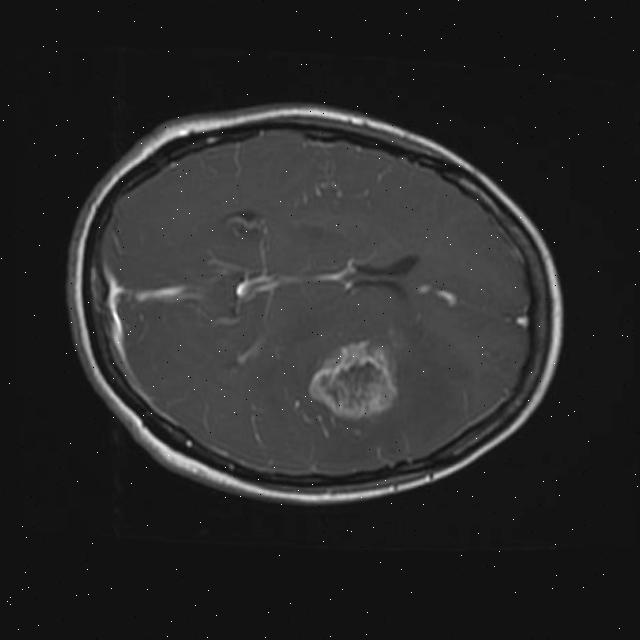Glioma: (304, 336, 402, 423)
